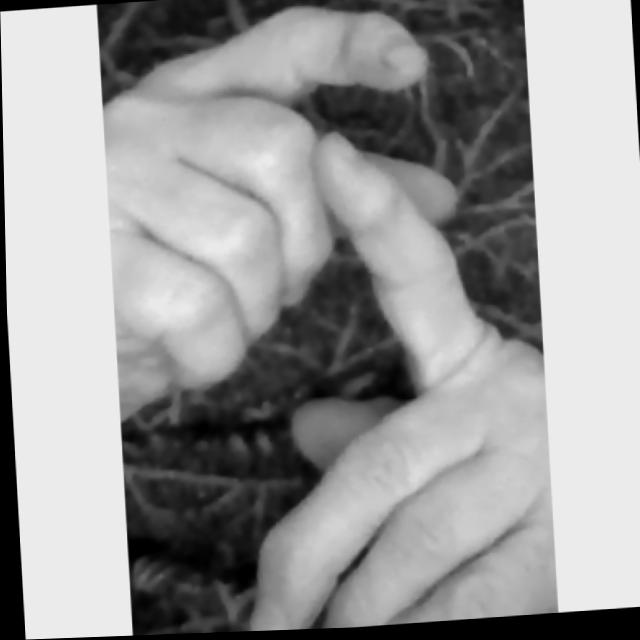C_: (99, 0, 558, 636)
